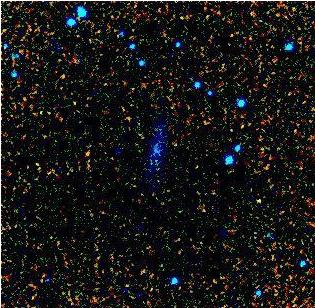star: (244, 185, 274, 215)
